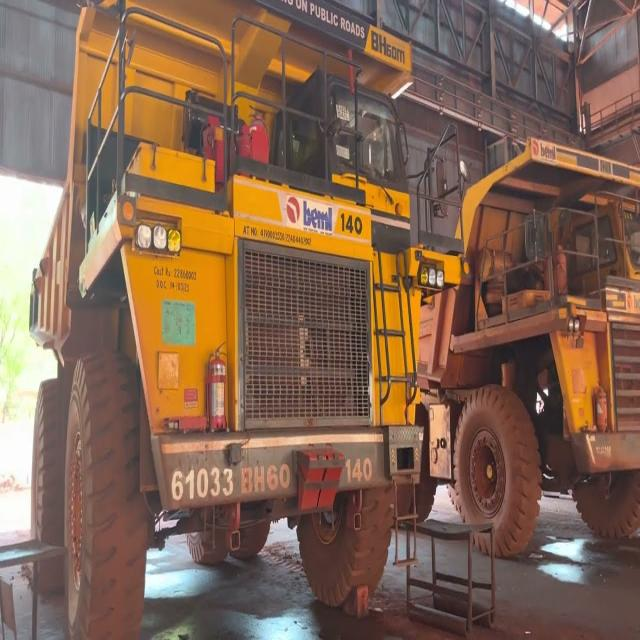dump_truck: (31, 0, 418, 640), (431, 137, 640, 541)
